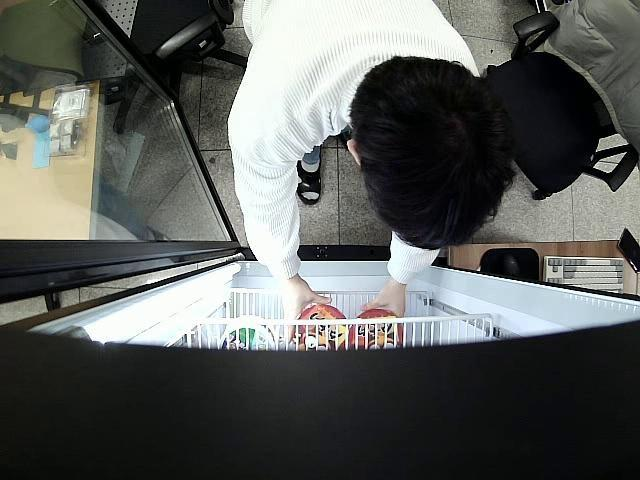05_nuguri_L: (346, 308, 405, 350), (294, 309, 348, 353)
